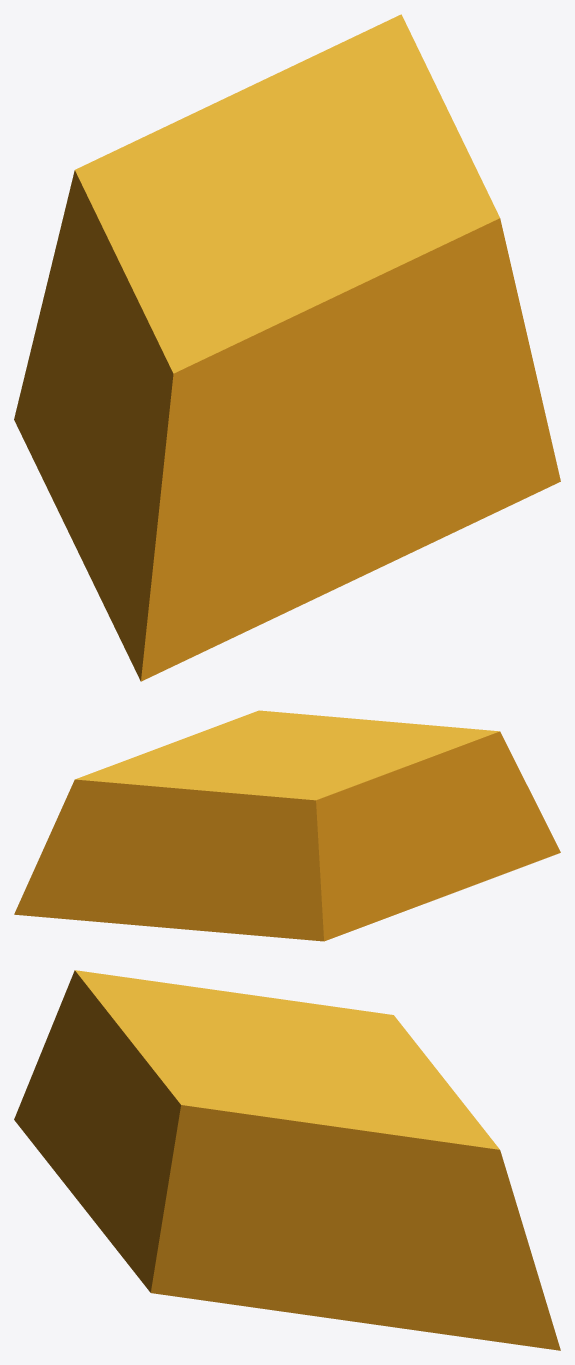
Rendered from GoldBar.fbx.
The picture shows the model from 3 angles, top to bottom: view 1: azimuth 30°, elevation 25°; view 2: azimuth 150°, elevation 25°; view 3: azimuth 270°, elevation 25°; orthographic projection. The views are drawn at different scales.
Visible parts, largest first — view 1: GoldBar; view 2: GoldBar; view 3: GoldBar.
Boxes of the visible parts, x1,y1,x2,y2 form: GoldBar: (14,14,560,681); GoldBar: (14,710,560,941); GoldBar: (14,970,560,1350).
Size of the model in its own units: 1.27 by 0.45 by 1.27.
1 material, 1 textured.
